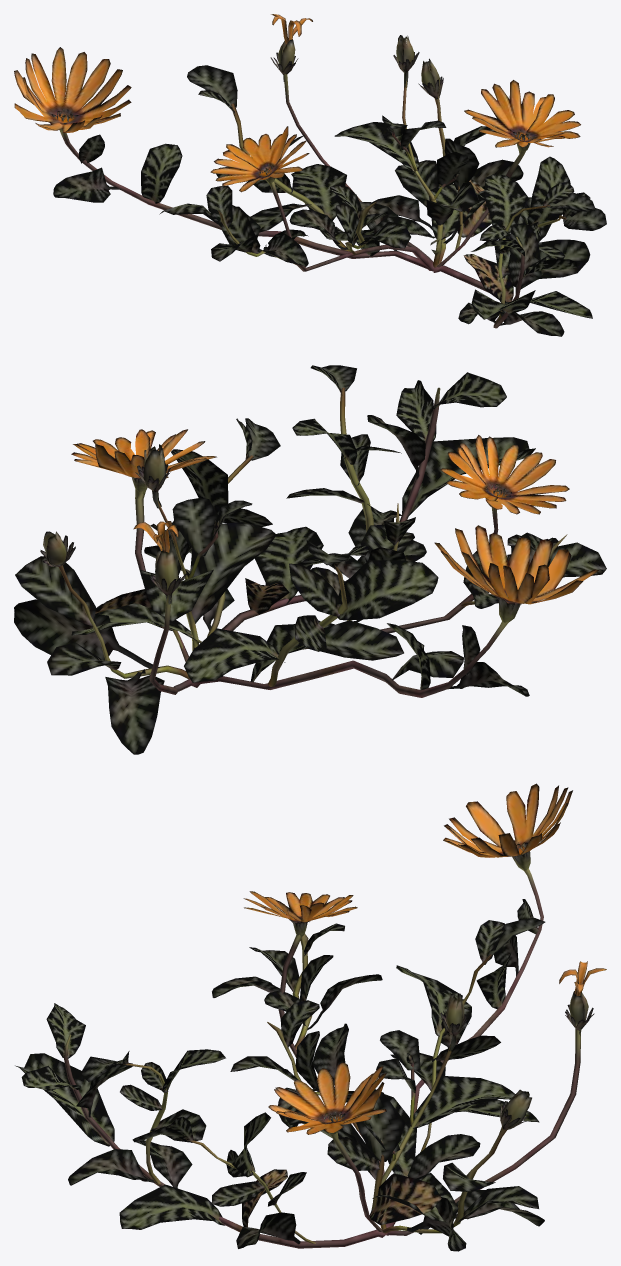
The model's file is flower.glb.
The picture shows the model from 3 angles, top to bottom: view 1: azimuth 30°, elevation 25°; view 2: azimuth 150°, elevation 25°; view 3: azimuth 270°, elevation 25°; orthographic projection. The views are drawn at different scales.
Visible parts, largest first — view 1: flower_ursinia_b_LOD0; view 2: flower_ursinia_b_LOD0; view 3: flower_ursinia_b_LOD0.
Part boxes in pixels (box(x1,y1,x2,y2)): flower_ursinia_b_LOD0: box(14, 14, 606, 336); flower_ursinia_b_LOD0: box(14, 365, 606, 754); flower_ursinia_b_LOD0: box(15, 783, 606, 1251).
Bounding box in the file's own units: 0.1819 × 0.0861 × 0.1705.
Materials: 1 (1 with a texture image).
